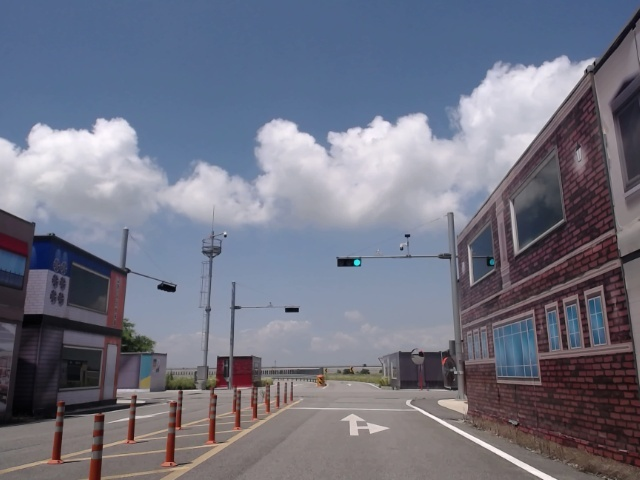green_3: (337, 258, 361, 267)
